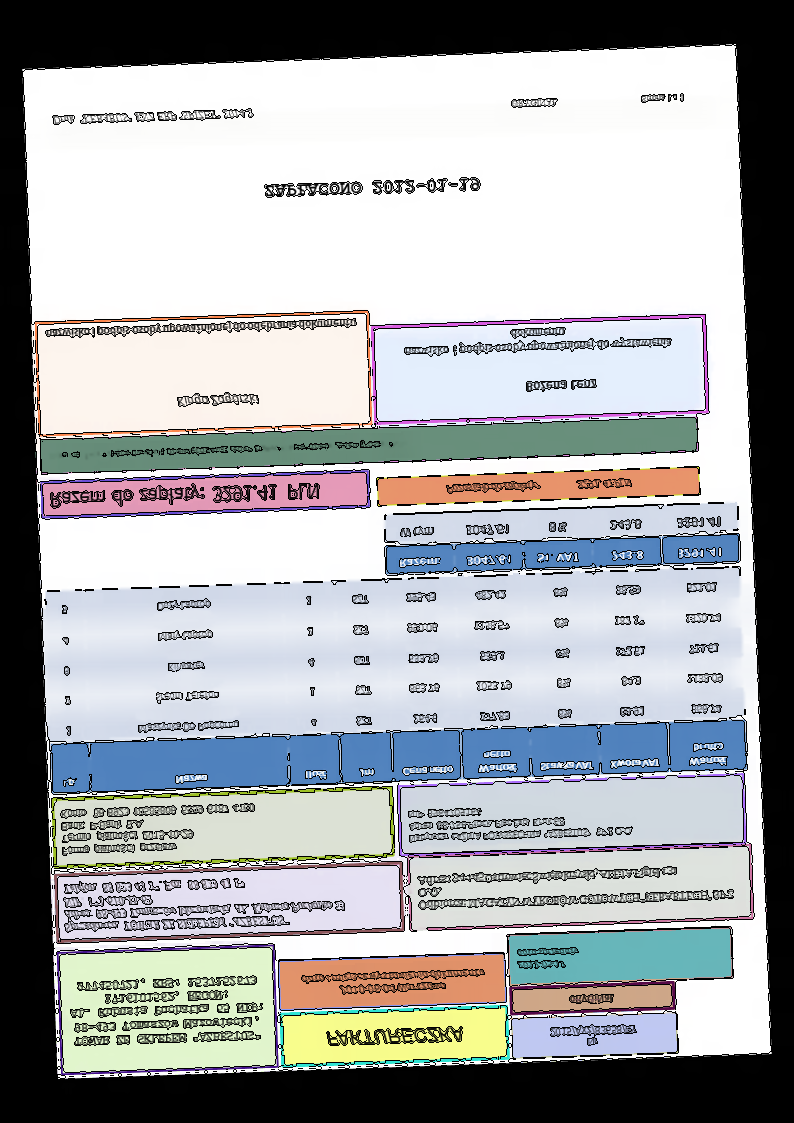Table: (44, 566, 748, 796), (383, 501, 740, 577)
TextBox: (62, 874, 347, 937), (415, 862, 735, 912), (67, 975, 265, 1048), (59, 801, 259, 857), (405, 800, 635, 846), (403, 322, 672, 359), (47, 436, 409, 463), (43, 316, 356, 343), (49, 481, 321, 512), (299, 967, 488, 998), (263, 175, 481, 201), (50, 106, 256, 128), (444, 474, 634, 497), (324, 1024, 465, 1050), (510, 91, 685, 110), (548, 1023, 639, 1050), (174, 390, 260, 411), (515, 946, 580, 972), (524, 377, 599, 395), (568, 992, 616, 1007)
